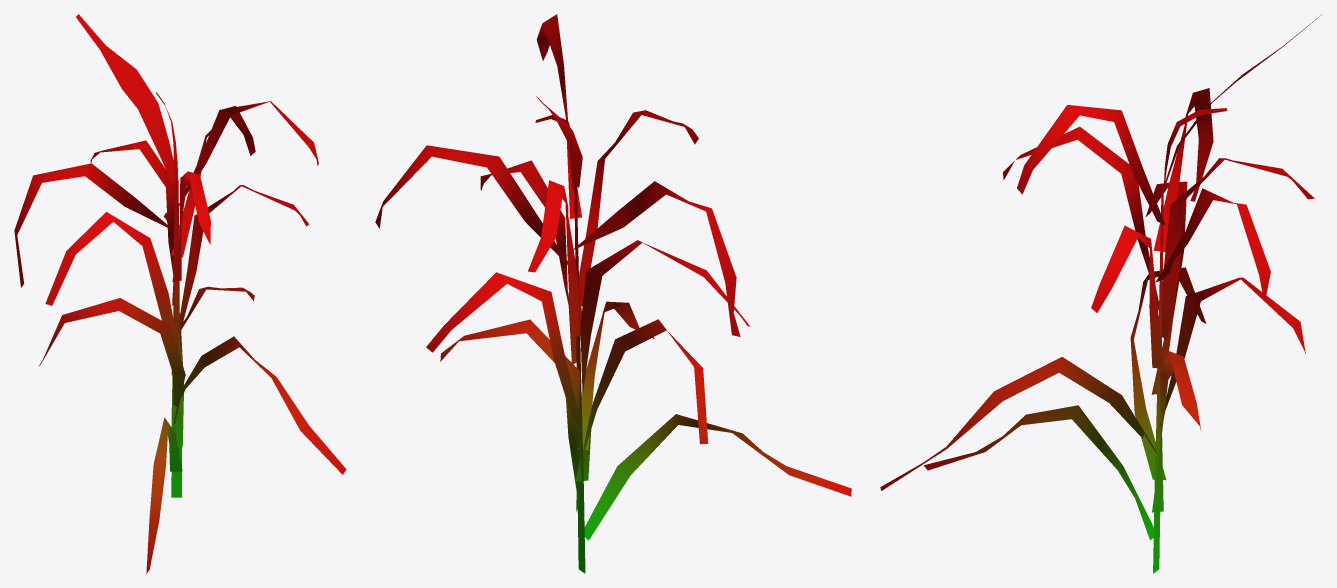
The model's file is Great Brome_LOD4_Var5_tjugaikia.fbx.
3 renders of one model, left to right at view 1: azimuth 30°, elevation 25°; view 2: azimuth 150°, elevation 25°; view 3: azimuth 270°, elevation 25°, orthographic. The views are drawn at different scales.
Parts seen in each view (by area): view 1: _afa8_Var5_LOD4; view 2: _afa8_Var5_LOD4; view 3: _afa8_Var5_LOD4.
Part boxes in pixels (<box>): _afa8_Var5_LOD4: <box>14,14,346,573</box>; _afa8_Var5_LOD4: <box>375,14,851,573</box>; _afa8_Var5_LOD4: <box>880,14,1322,573</box>.
Size of the model in its own units: 49.71 by 79.13 by 58.79.
